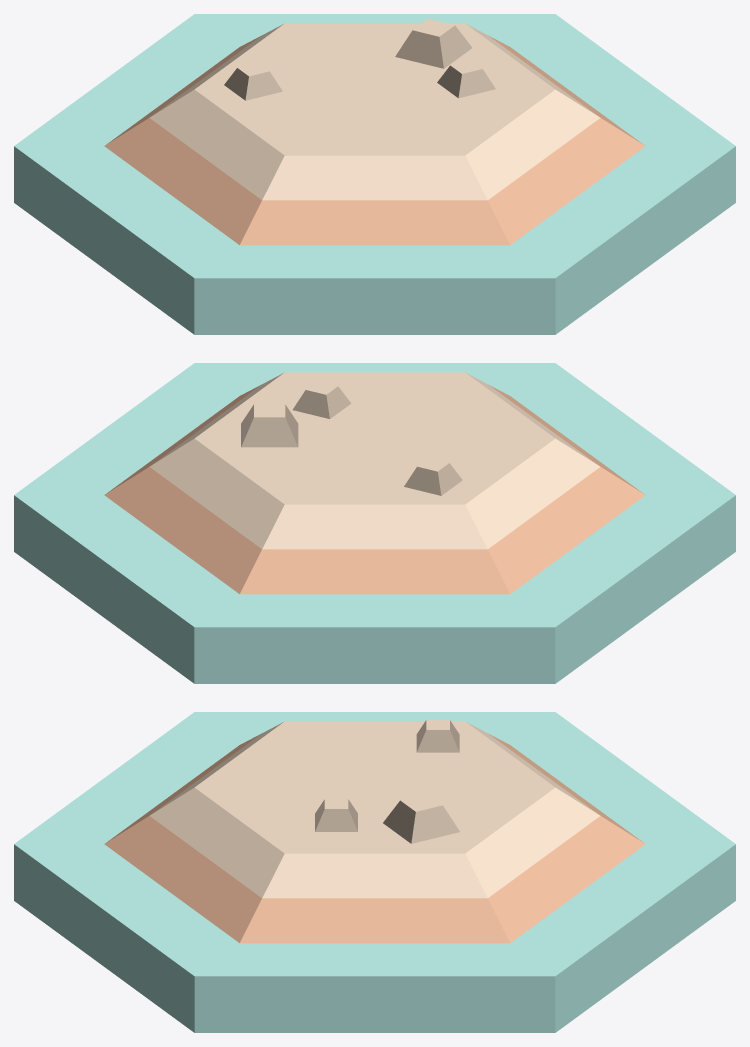
File: WaterIsland.fbx
3 views of the same model, one above another, from view 1: azimuth 30°, elevation 25°; view 2: azimuth 150°, elevation 25°; view 3: azimuth 270°, elevation 25° (orthographic).
Visible parts, largest first — view 1: water_island; view 2: water_island; view 3: water_island.
Boxes of the visible parts, box(x1,y1,x2,y2) form: water_island: box(14, 14, 735, 334); water_island: box(14, 363, 735, 683); water_island: box(14, 712, 735, 1032).
Size of the model in its own units: 100 by 24.35 by 115.
